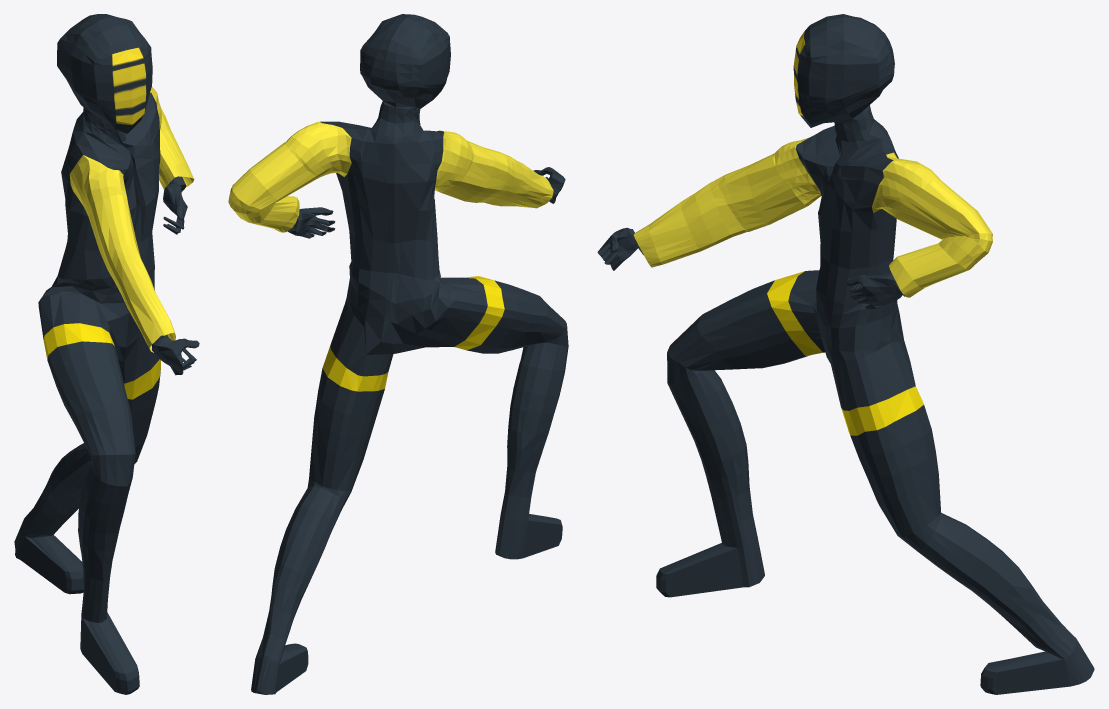
File: Sentry_WL_000023.obj
3 views of the same model, side by side, from view 1: azimuth 30°, elevation 25°; view 2: azimuth 150°, elevation 25°; view 3: azimuth 270°, elevation 25° (orthographic). The views are drawn at different scales.
Visible parts, largest first — view 1: Cube; view 2: Cube; view 3: Cube.
Part boxes in pixels (x1,y1,x2,y2): Cube: (14,14,199,694); Cube: (228,14,568,694); Cube: (597,14,1094,694).
Bounding box in the file's own units: 1.25 × 3.6 × 2.49.
